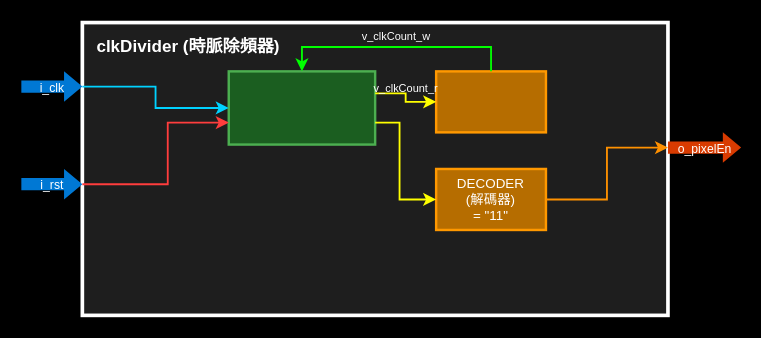
This 761x338 diagram has some shape labels left out. Each missing label, with the box of its shape:
ADDER (加法器) + 1: (434, 70, 547, 133)
CLK_DIV_REG (2-bit 暫存器) v_clkCount_r: (227, 70, 376, 145)
